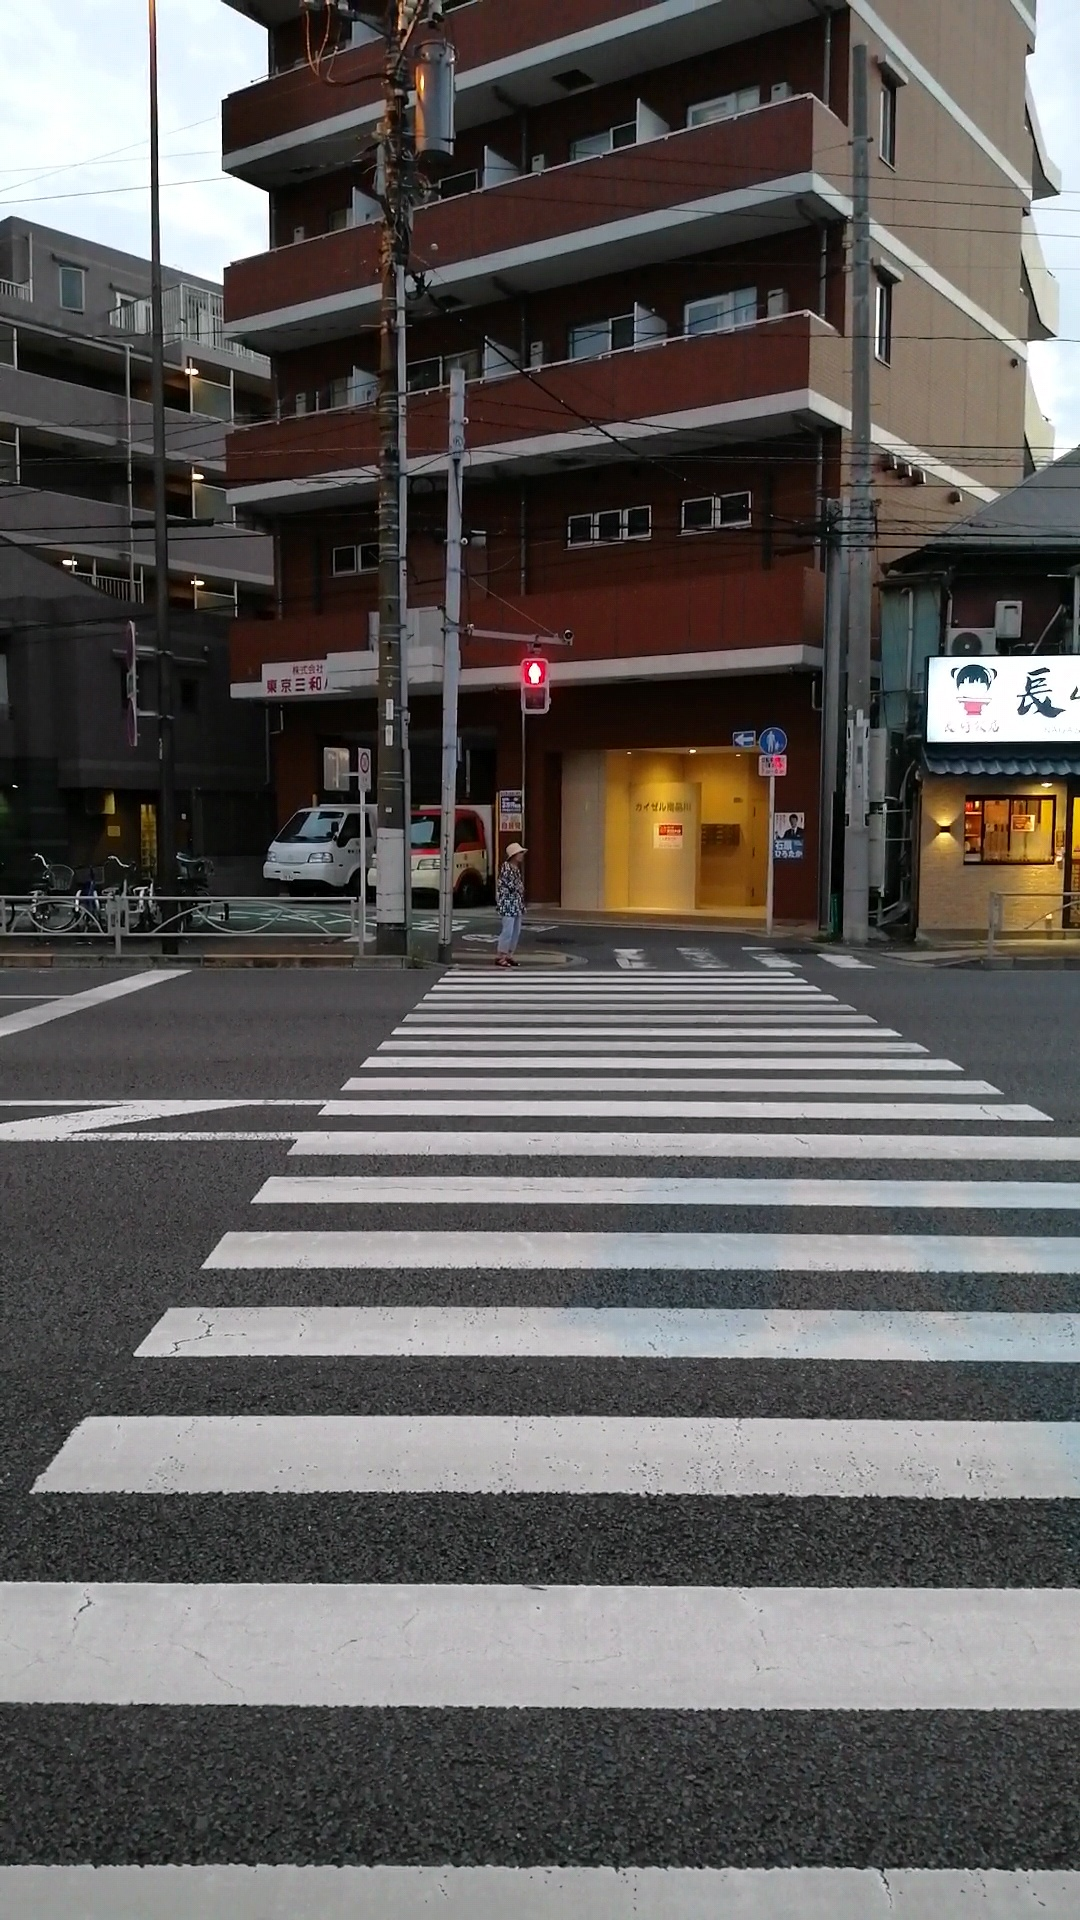red: (520, 655, 549, 713)
